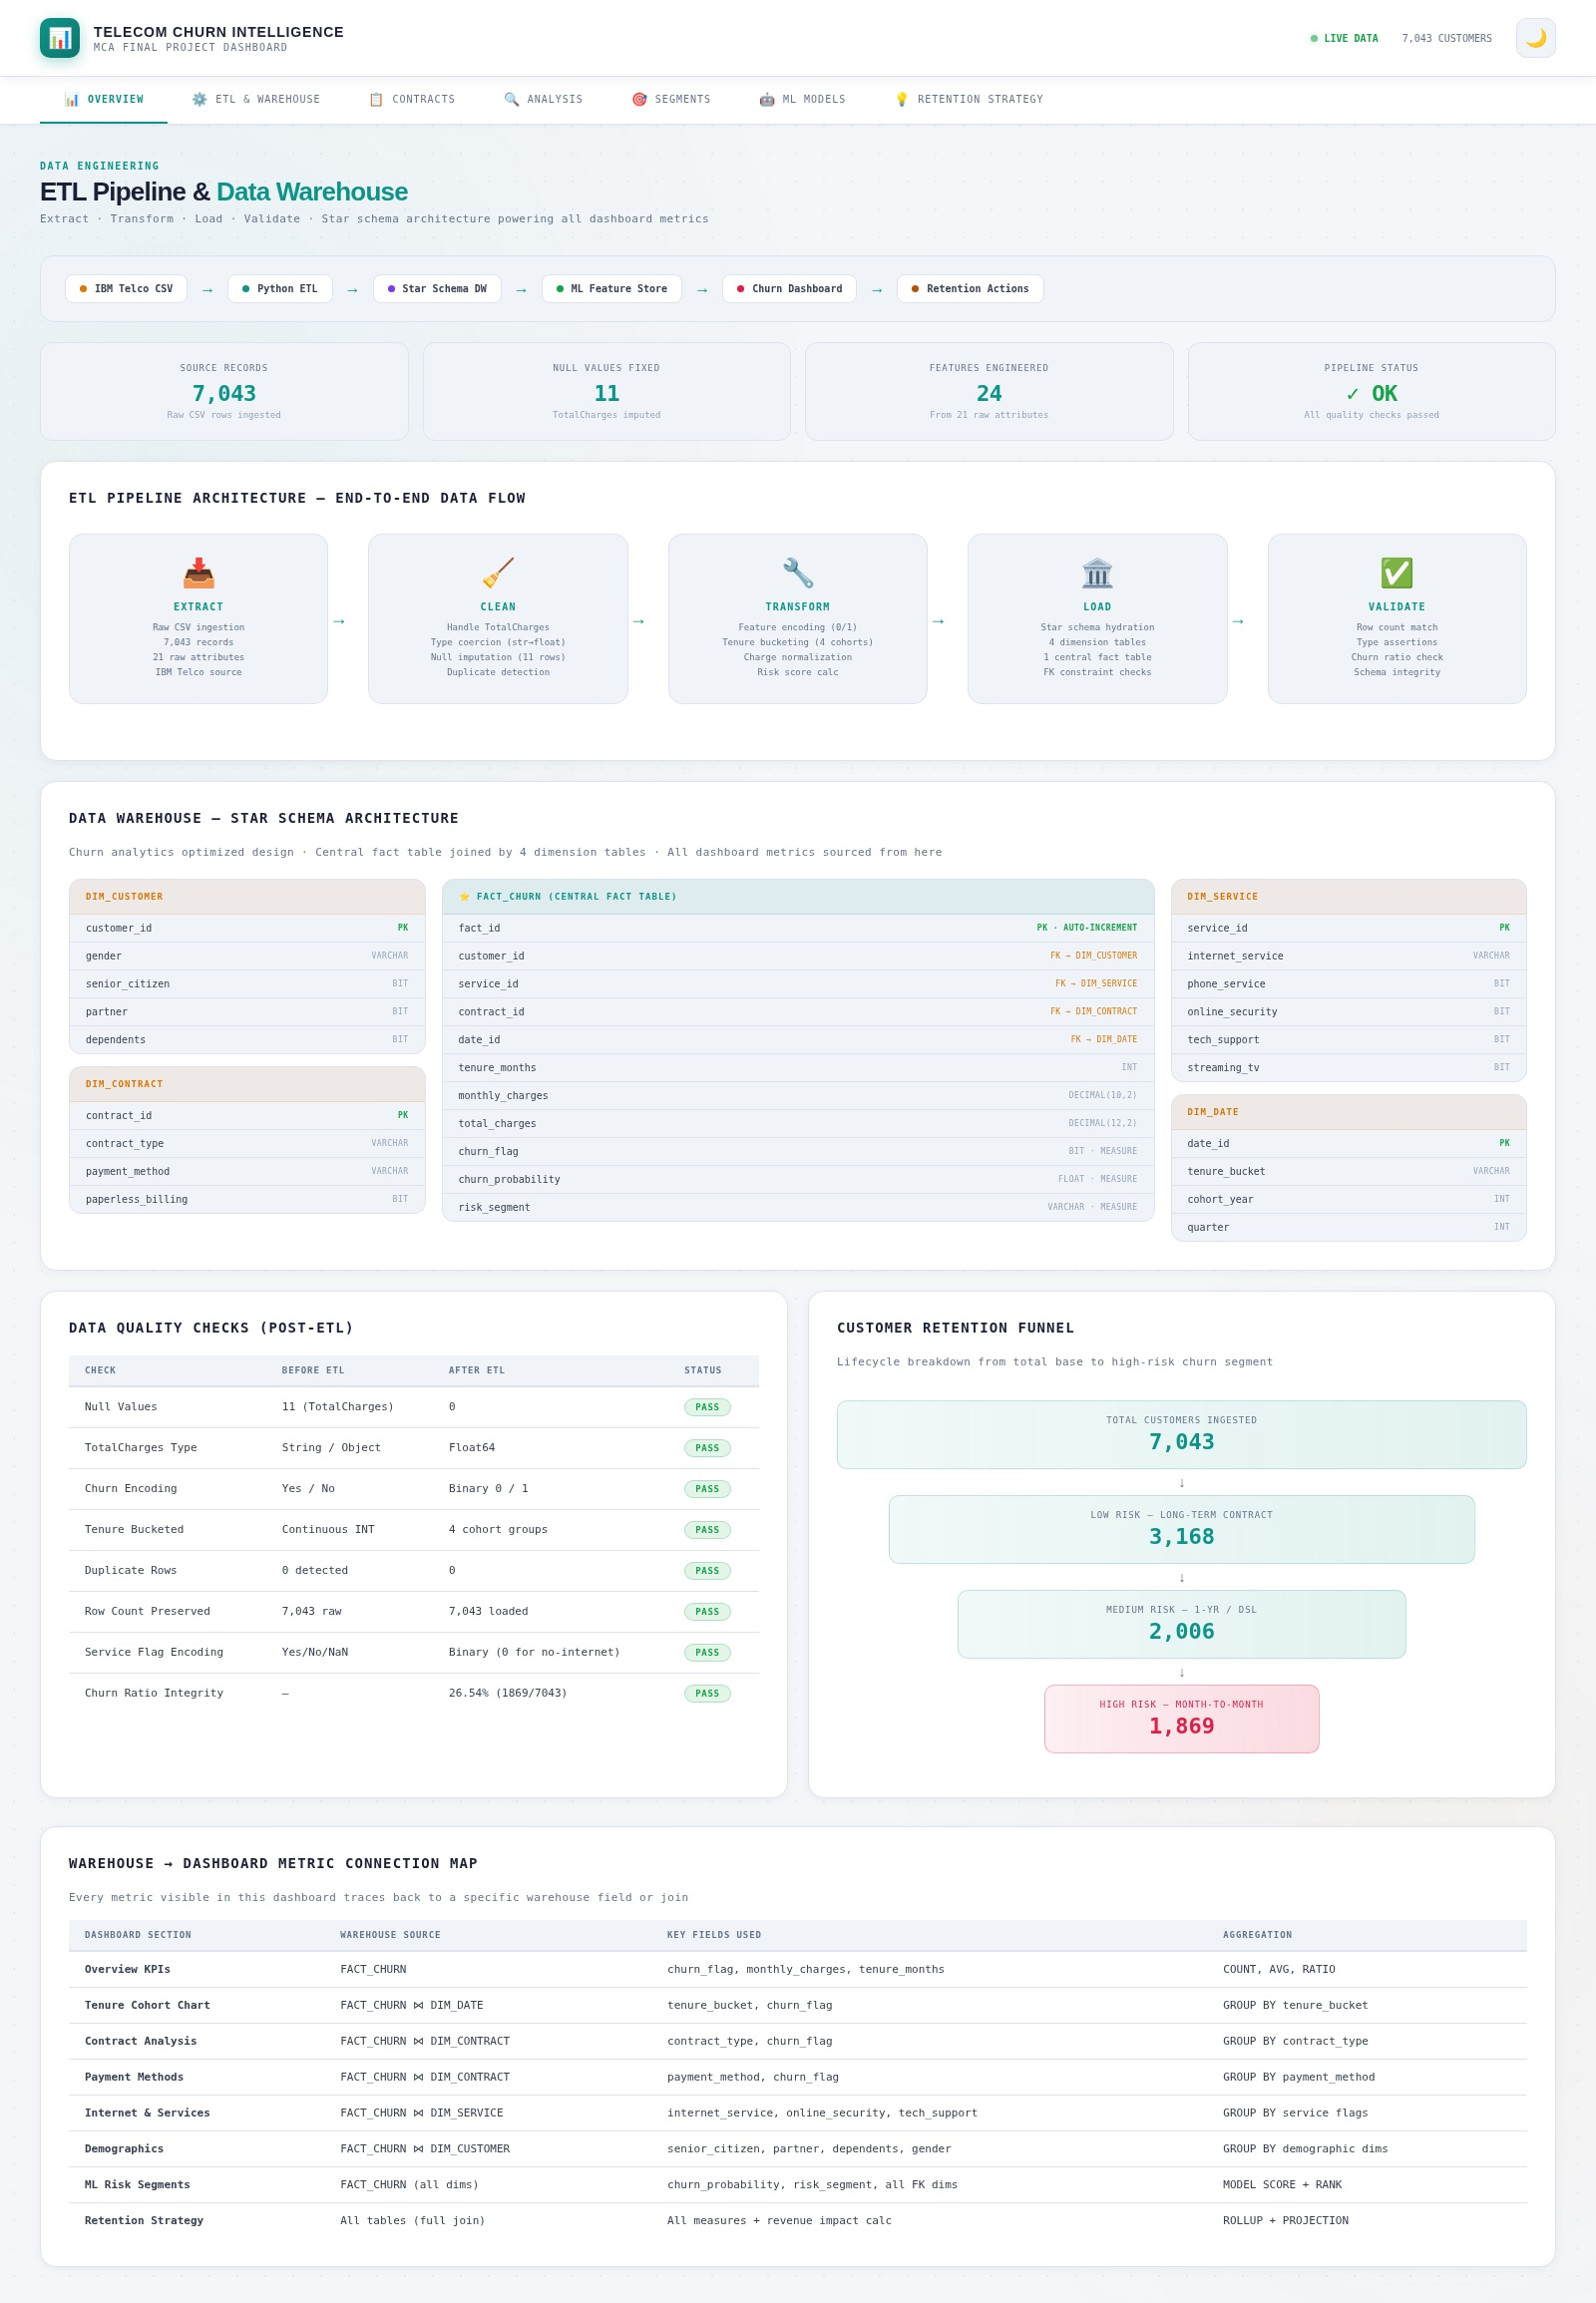

The page's visual inventory and layout, read from the dashboard file:
{"tool":"powerbi","page":{"name":"ETL & Warehouse","canvas":[1280,720],"ordinal":3},"visuals":[{"type":"shape","title":"CSV Dataset","box":[11,151.6,214,111.3],"z":0},{"type":"textbox","box":[41.6,159,138.2,97.8],"z":1000},{"type":"shape","box":[225,189.5,51.4,36.7],"z":2000},{"type":"shape","box":[489.1,189.5,51.4,36.7],"z":3000},{"type":"shape","box":[753.3,183.4,51.4,36.7],"z":4000},{"type":"shape","box":[1015,178.5,51.4,36.7],"z":5000},{"type":"shape","title":"CSV Dataset","box":[266.6,151.6,212.8,111.3],"z":6000},{"type":"shape","title":"CSV Dataset","box":[531.9,145.5,214,111.3],"z":7000},{"type":"shape","title":"CSV Dataset","box":[804.6,140.6,214,111.3],"z":8000},{"type":"shape","title":"CSV Dataset","box":[1056.5,140.6,214,111.3],"z":9000},{"type":"textbox","box":[317.9,162.6,105.2,89.3],"z":10000},{"type":"textbox","box":[853.5,157.7,117.4,88],"z":11000},{"type":"textbox","box":[585.7,163.9,107.6,89.3],"z":12000},{"type":"textbox","box":[1115.2,157.7,97.8,88],"z":13000},{"type":"tableEx","title":"Data Quality Metrics (Post-ETL)","fields":{"Values":["ETL_Validation_Metrics.Check","ETL_Validation_Metrics.Before ETL","ETL_Validation_Metrics.After ETL","ETL_Validation_Metrics.Status"]},"box":[12.2,310.6,610.2,300.8],"z":14000},{"type":"textbox","box":[11,11,1242.4,79.5],"z":15000}]}

Visuals, with their boxes on the page's 1280x720 design canvas (x1, y1, x2, y2). These are canvas units, not pixel positions in the 1596x2303 screenshot, which may show the page scaled, cropped or inside an application window:
"CSV Dataset" shape: [11, 152, 225, 263]
textbox: [42, 159, 180, 257]
shape: [225, 190, 276, 226]
shape: [489, 190, 540, 226]
shape: [753, 183, 805, 220]
shape: [1015, 178, 1066, 215]
"CSV Dataset" shape: [267, 152, 479, 263]
"CSV Dataset" shape: [532, 146, 746, 257]
"CSV Dataset" shape: [805, 141, 1019, 252]
"CSV Dataset" shape: [1056, 141, 1270, 252]
textbox: [318, 163, 423, 252]
textbox: [854, 158, 971, 246]
textbox: [586, 164, 693, 253]
textbox: [1115, 158, 1213, 246]
"Data Quality Metrics (Post-ETL)" tableEx: [12, 311, 622, 611]
textbox: [11, 11, 1253, 90]
